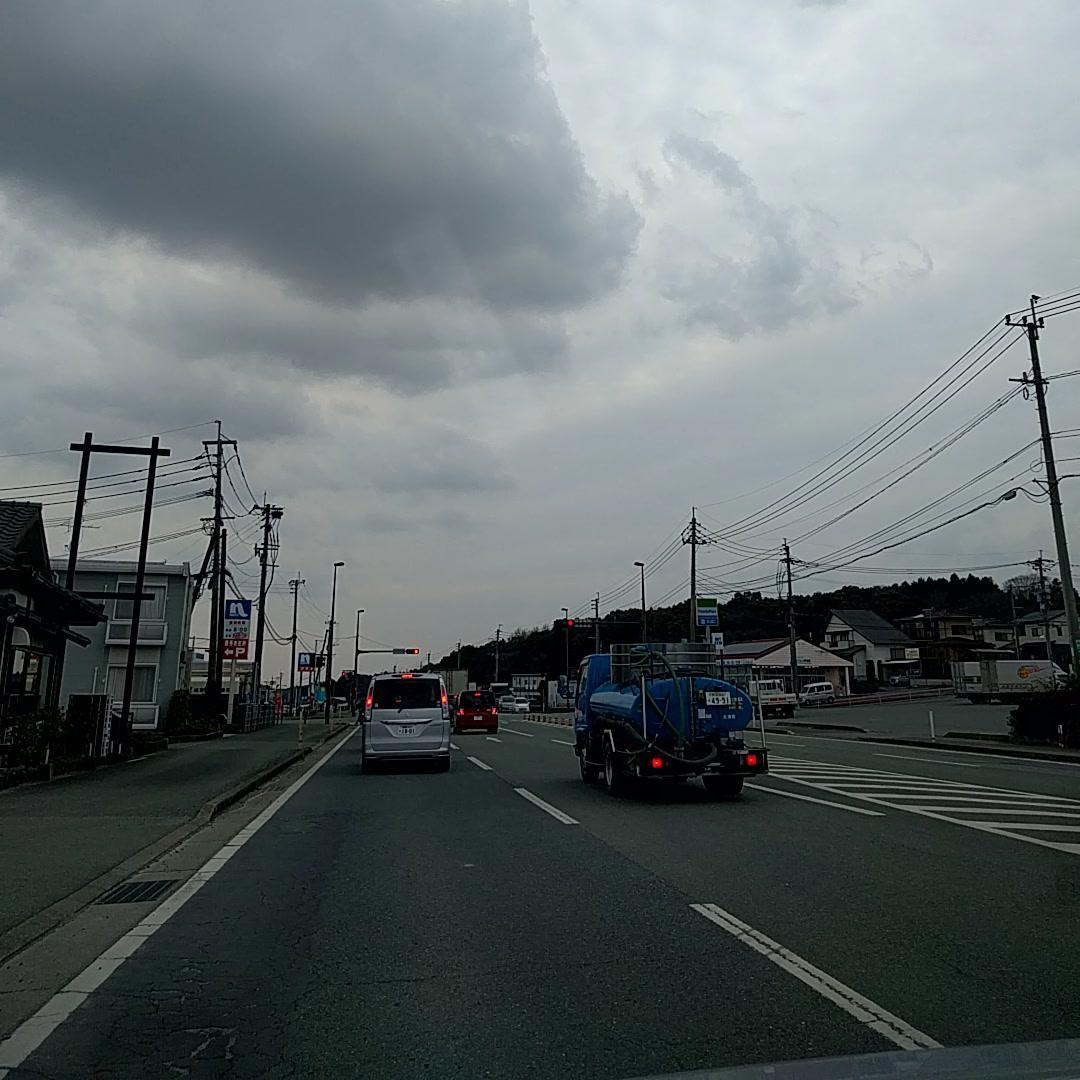D10: (341, 964, 589, 999)
D40: (116, 940, 254, 1072)
